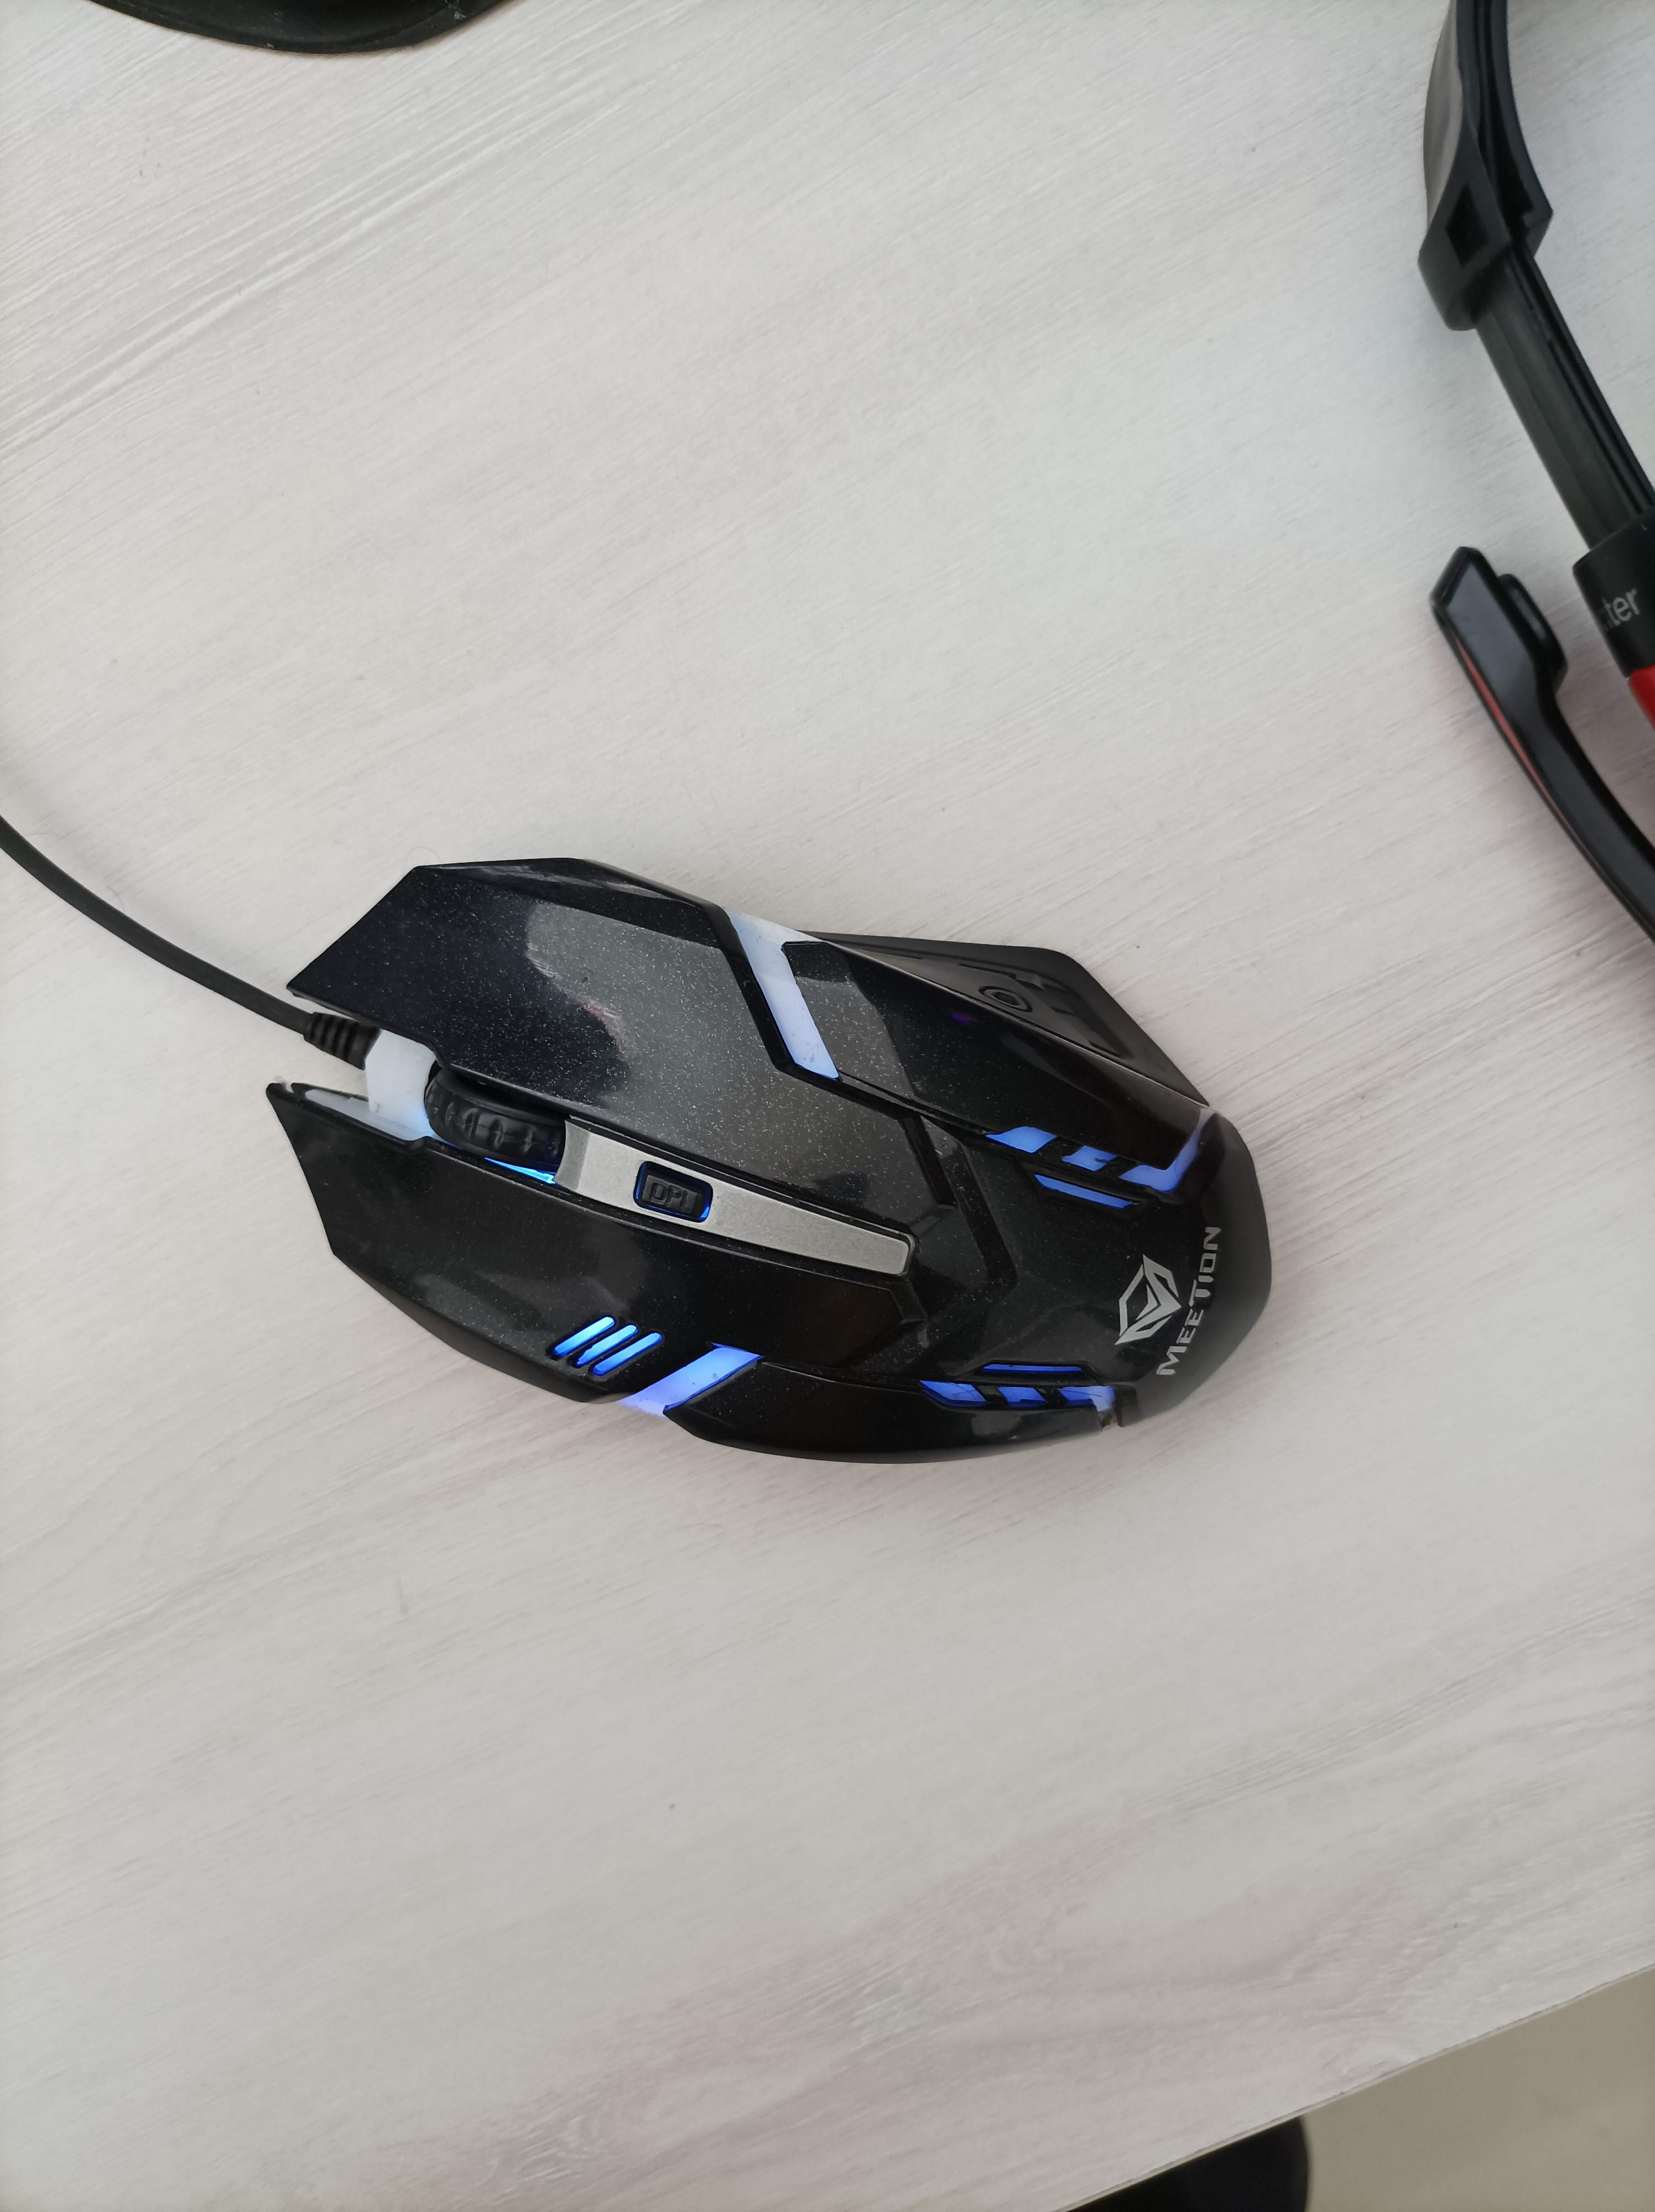mouse: (249, 831, 1288, 1498)
